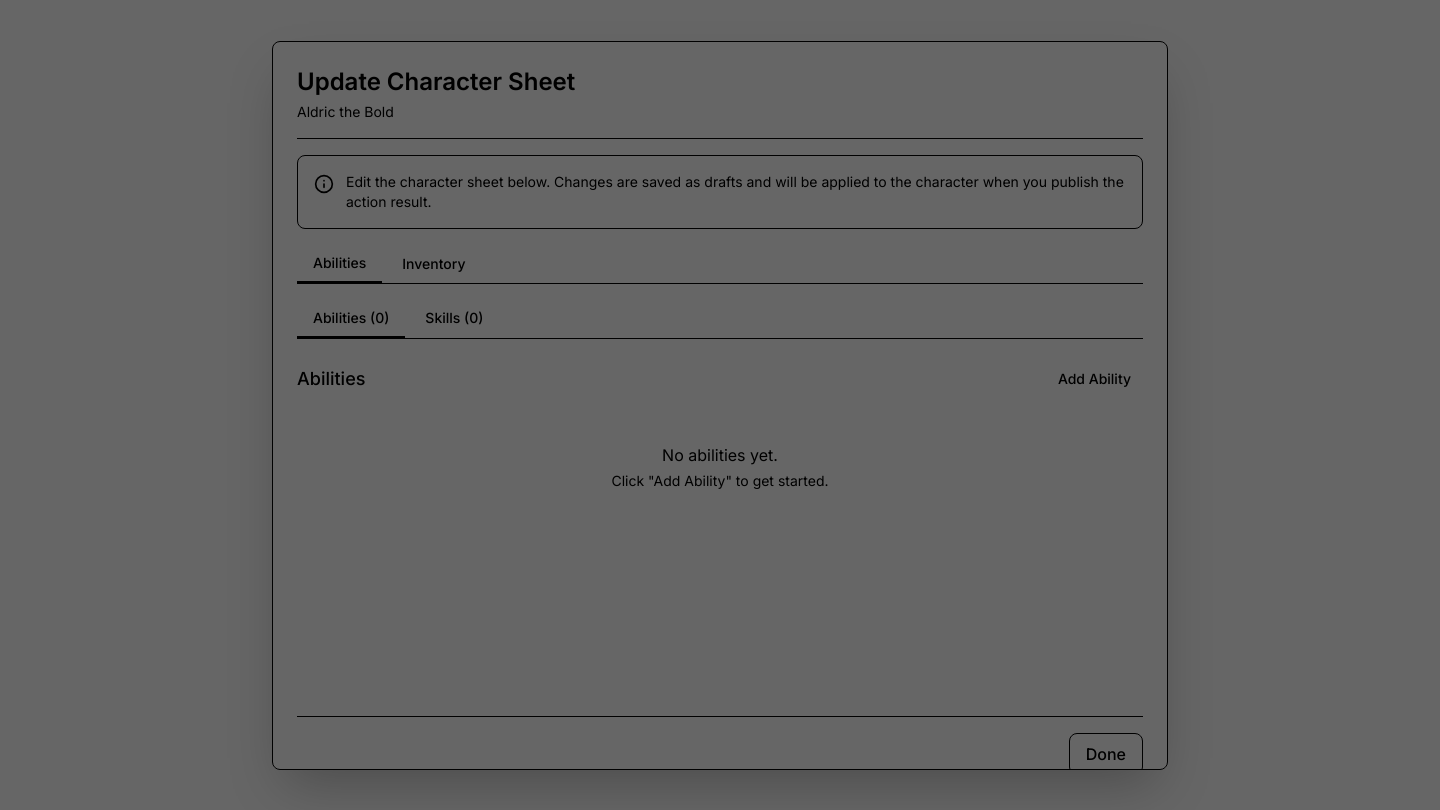
Test: UpdateCharacterSheetModal › Section navigation › switches to inventory section when tab is clicked
Click the button "inventory": [434, 264] box [386,244,481,282]
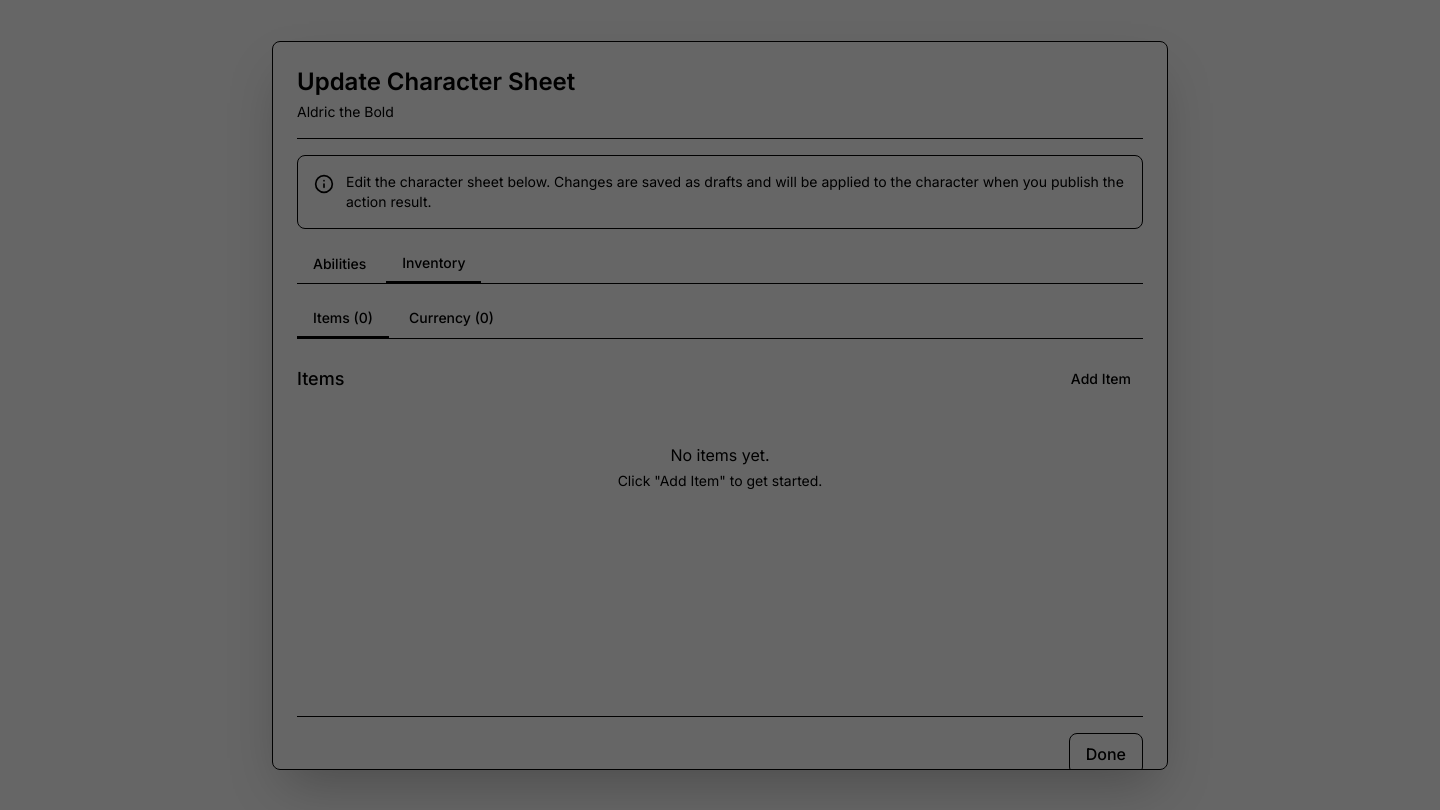
Expected: the text "No items yet." is shown, [670,444,770,464]
